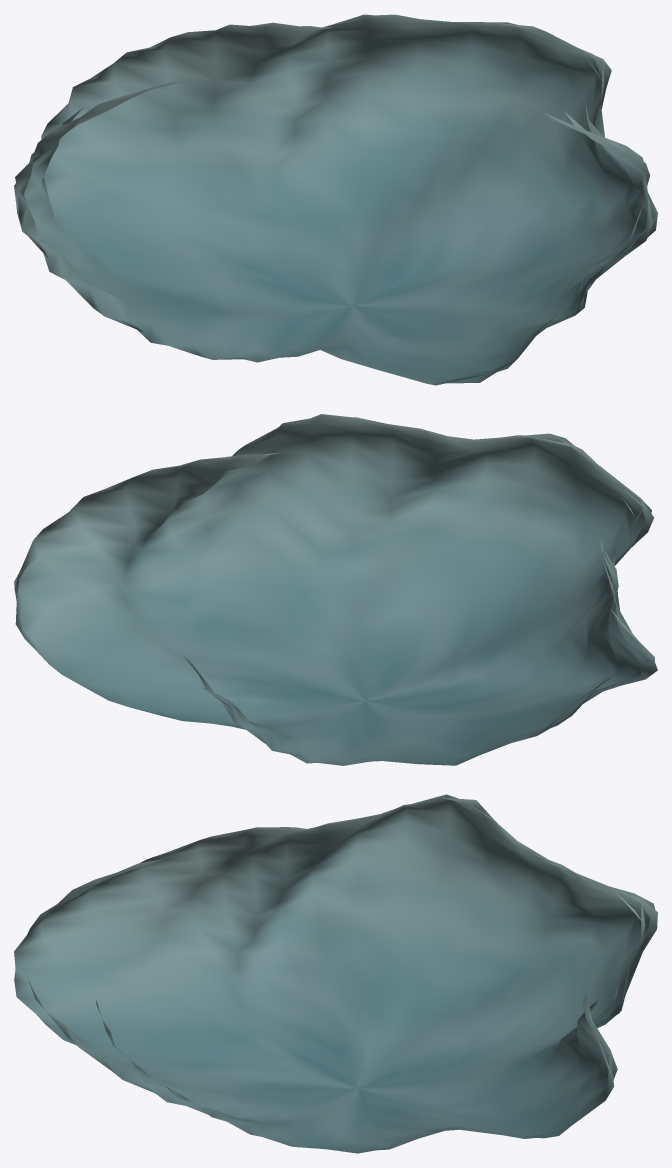
File: reef_rock.glb
3 views of the same model, one above another, from view 1: azimuth 30°, elevation 25°; view 2: azimuth 150°, elevation 25°; view 3: azimuth 270°, elevation 25° (orthographic). The views are drawn at different scales.
Visible parts, largest first — view 1: world; view 2: world; view 3: world.
Part boxes in pixels (<box>): world: <box>14,14,657,385</box>; world: <box>14,414,657,765</box>; world: <box>14,794,657,1153</box>.
Bounding box in the file's own units: 2.22 × 0.8 × 2.15.
